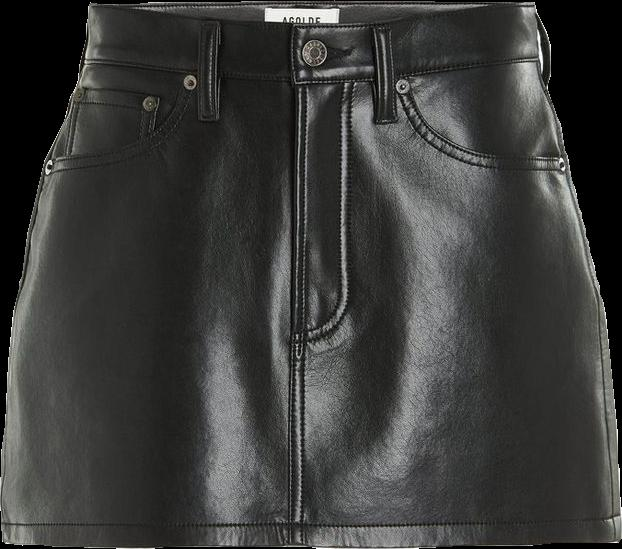Hemline: (0, 535, 621, 548)
Waistline: (88, 0, 531, 32)
